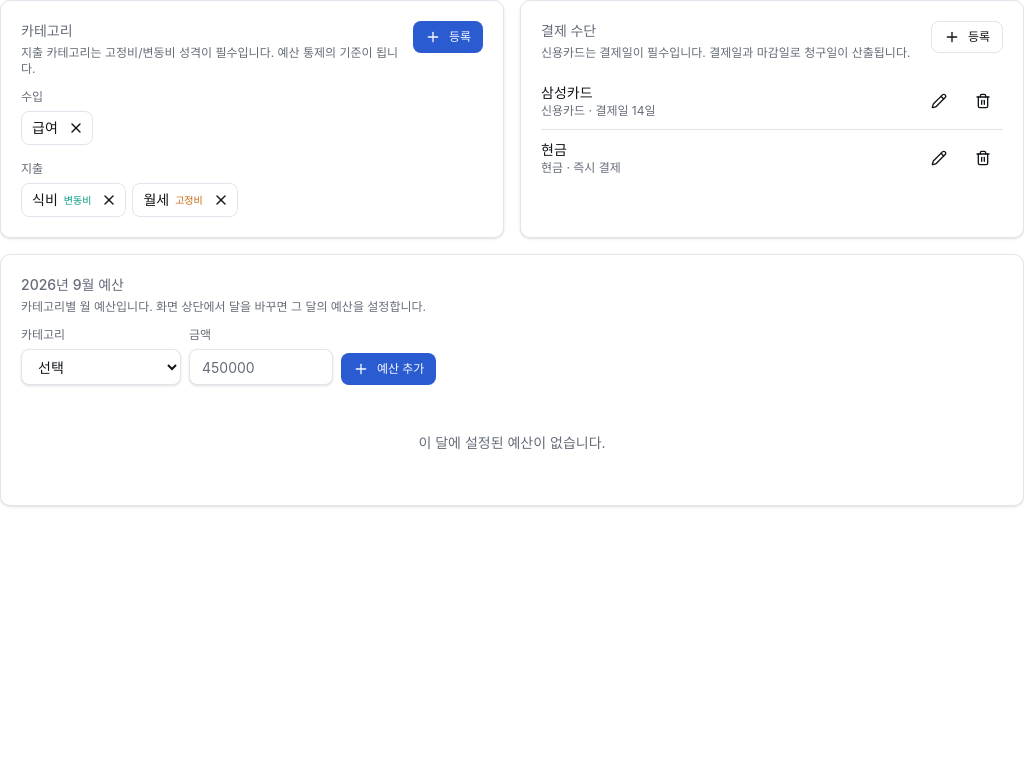
Test case: SettingsPage - 카테고리·결제 수단 관리 › 카테고리 › 이름을 비우면 등록하지 않는다
Expected: the button titled "식비 수정" is shown, x1=32 y1=186 x2=91 y2=214
Click the button with aria-label "카테고리 등록" at (448, 37), box x1=413 y1=21 x2=483 y2=53
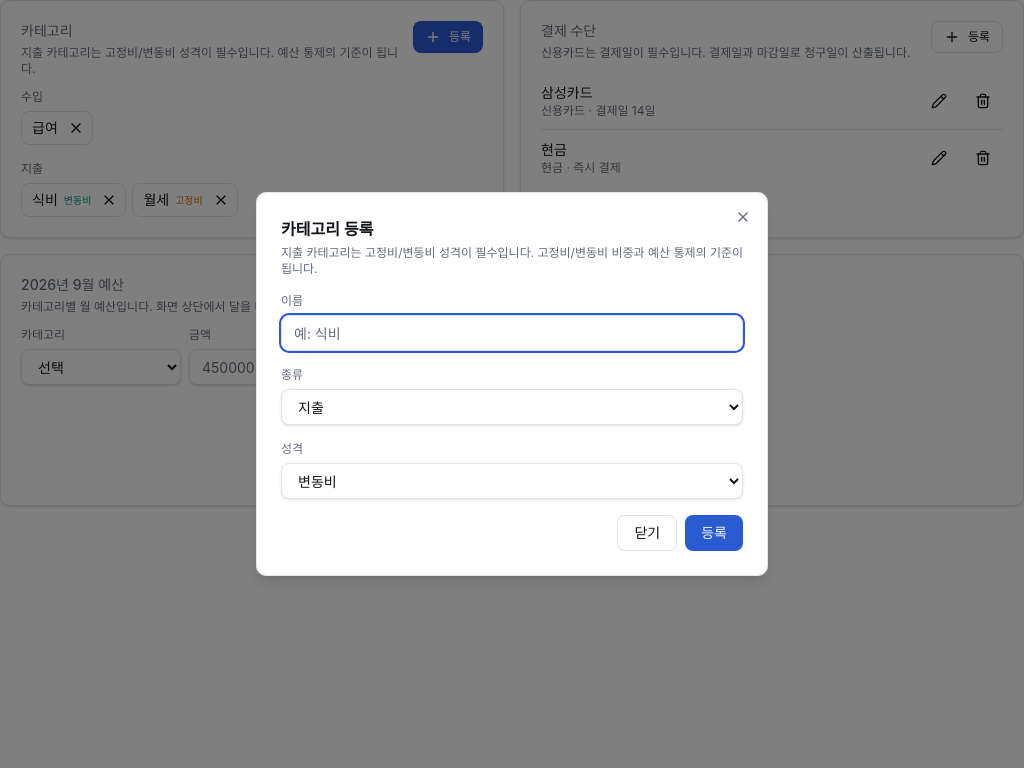
Click the button "등록" at (714, 533), box x1=685 y1=515 x2=743 y2=551
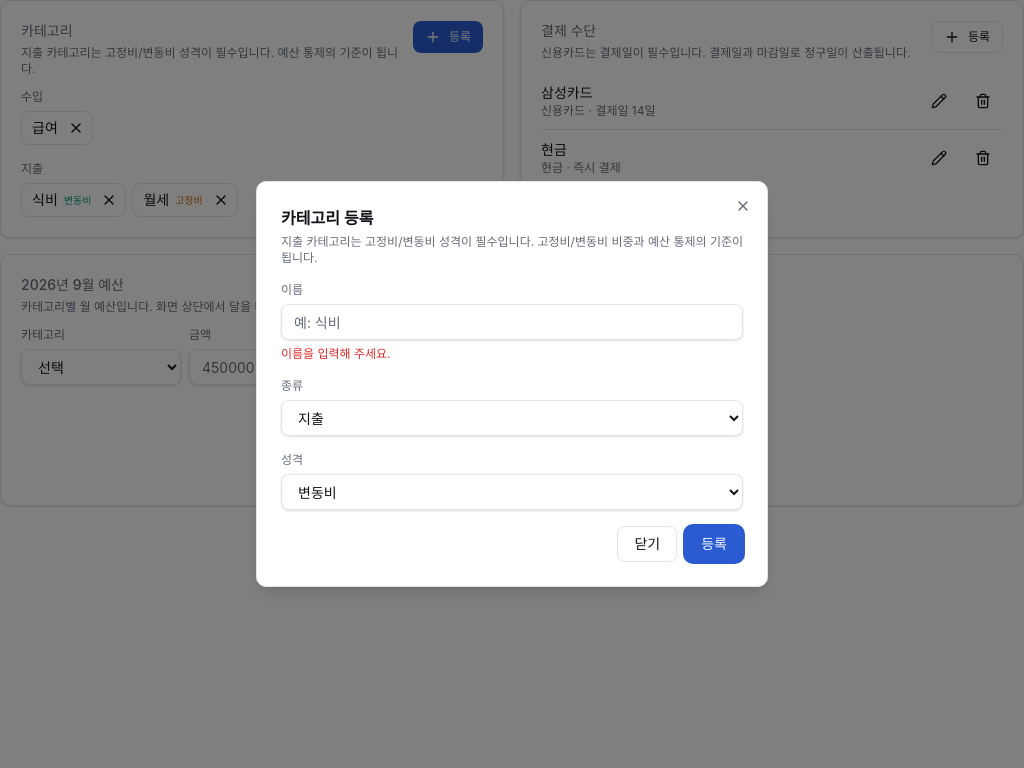
Expected: the message shows "이름을 입력해 주세요", x1=281 y1=346 x2=391 y2=361
